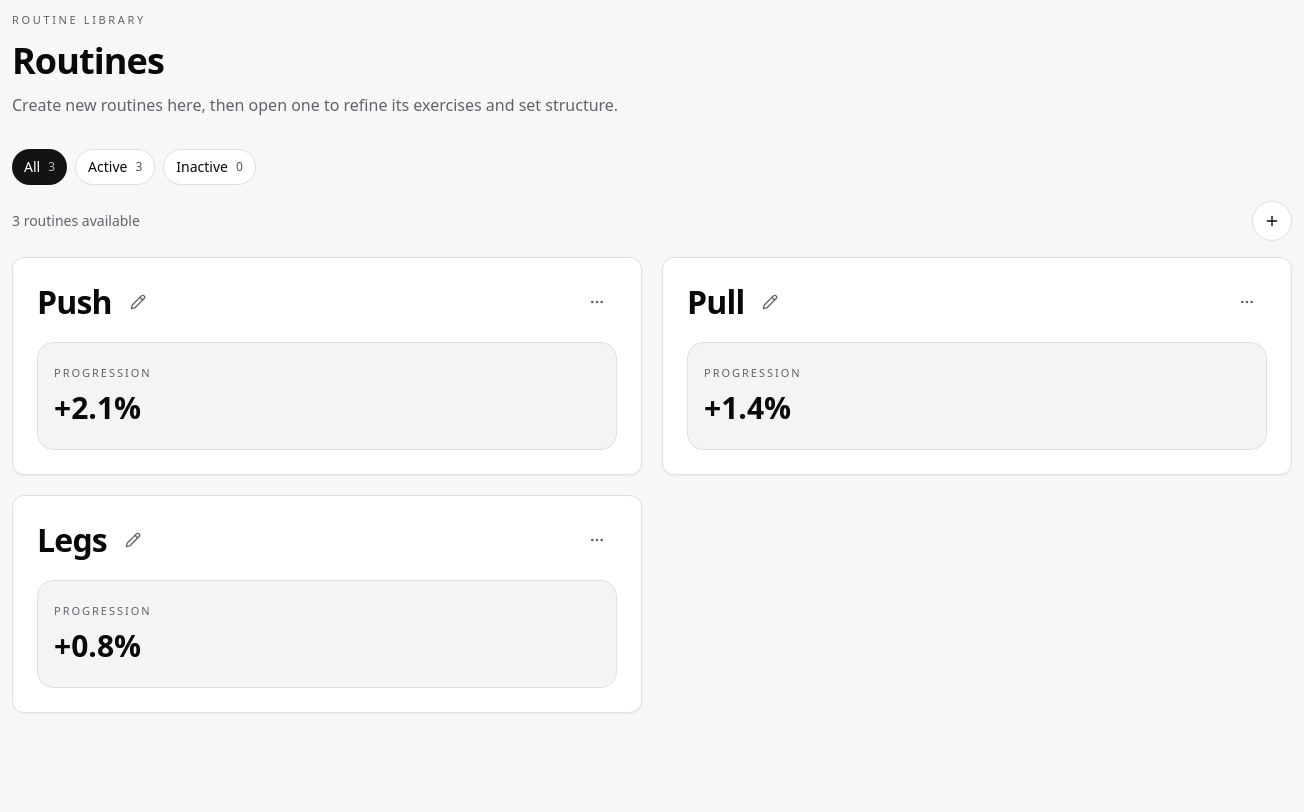
Test: RoutinesPage › creates a routine and routes to the detail builder
Click the button named "create new". click: [1272, 220]
box: [1252,200,1292,240]
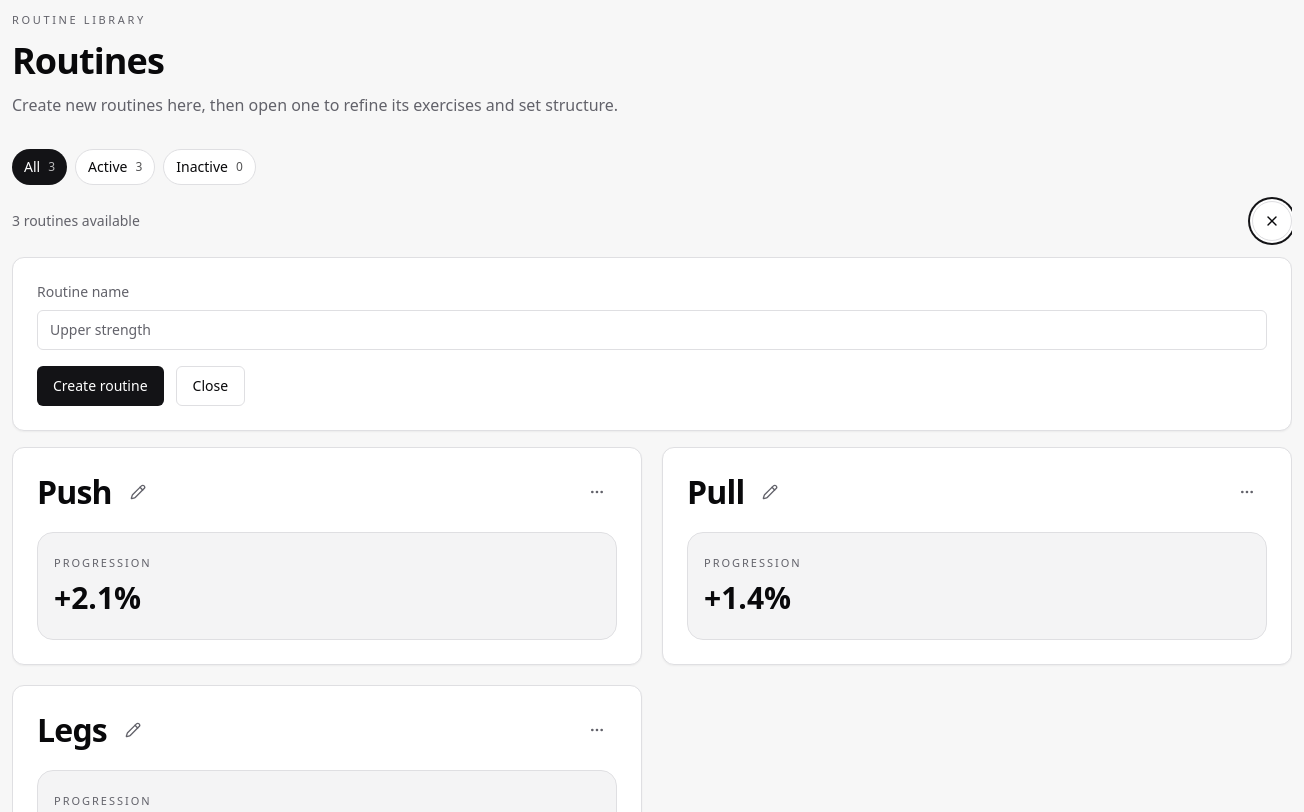
Type "Upper Strength" into the field labelled "Routine name". click: [652, 330]
box: [37,310,1267,350]
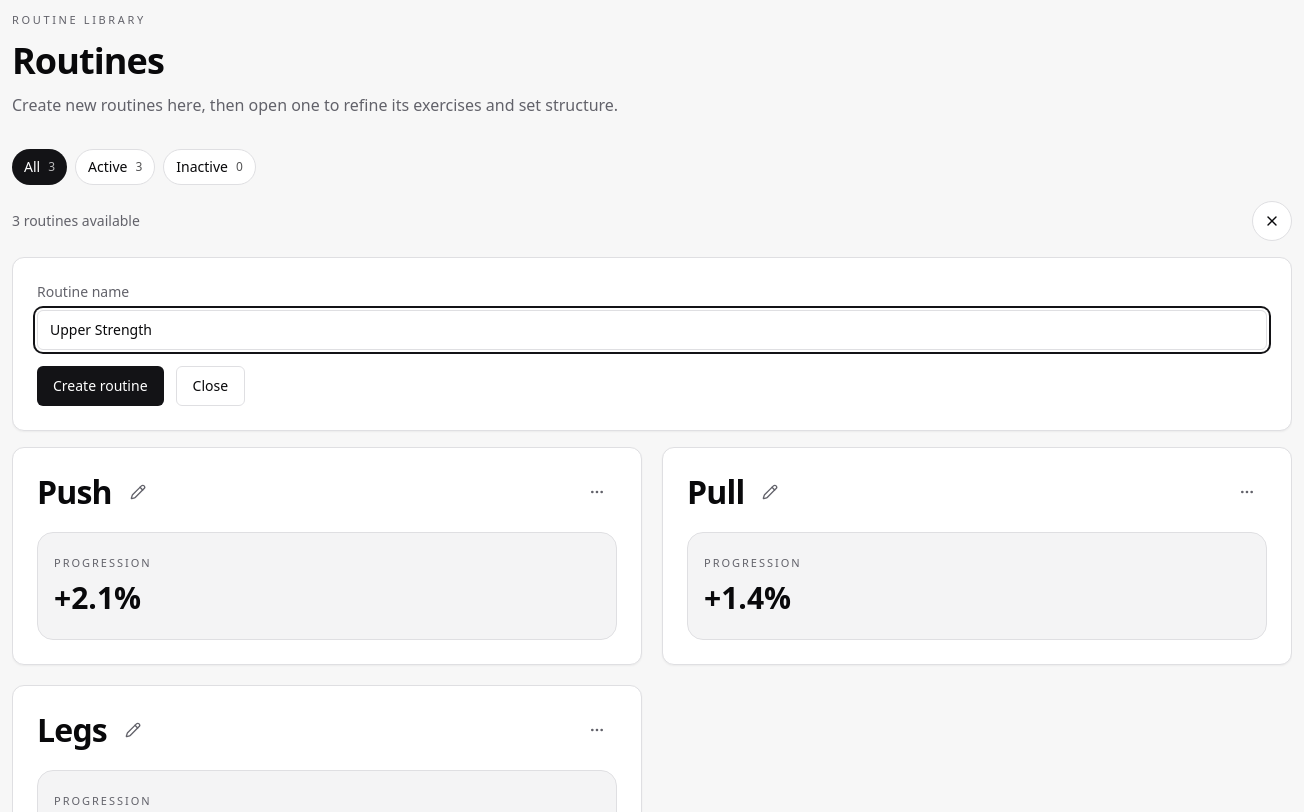
Click the button "Create routine". click: [100, 386]
box: [37,366,164,406]
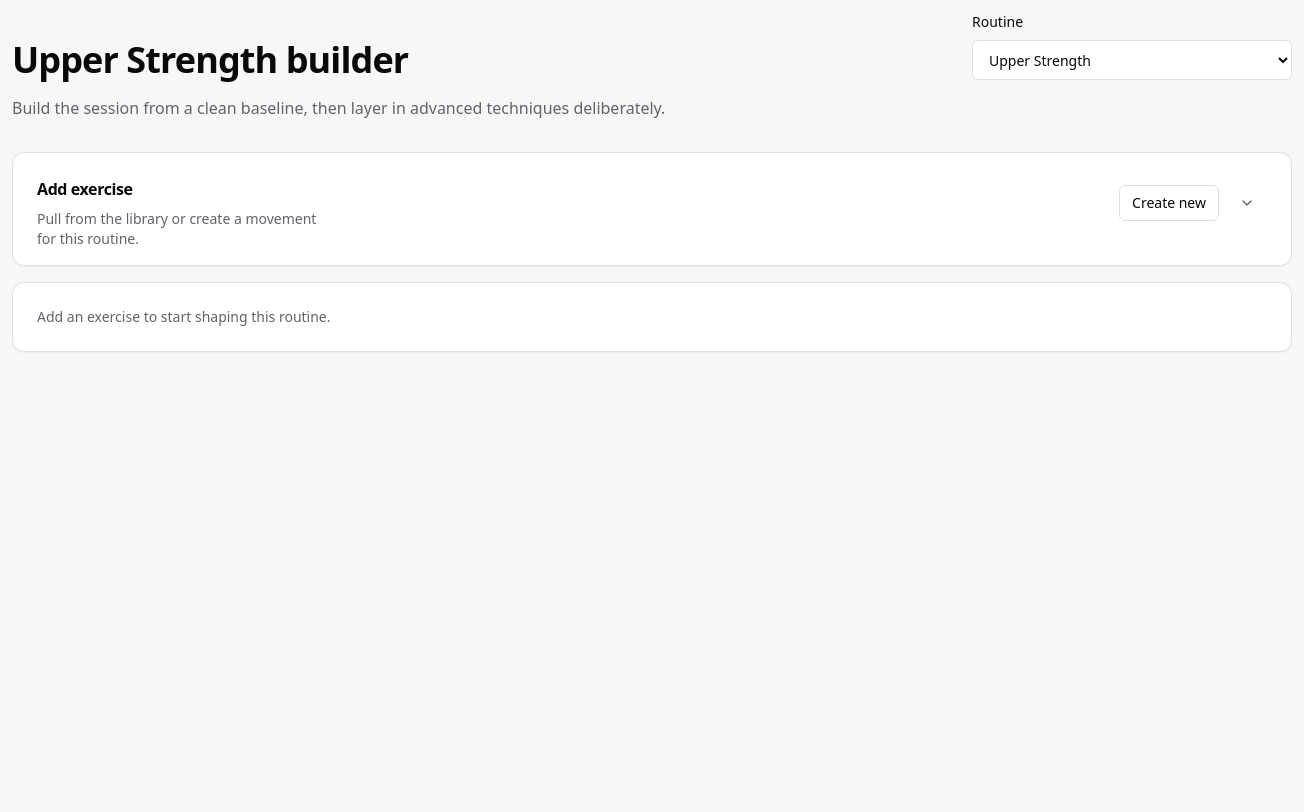
Now the heading "Upper Strength builder" is shown, box [12,40,408,80]
